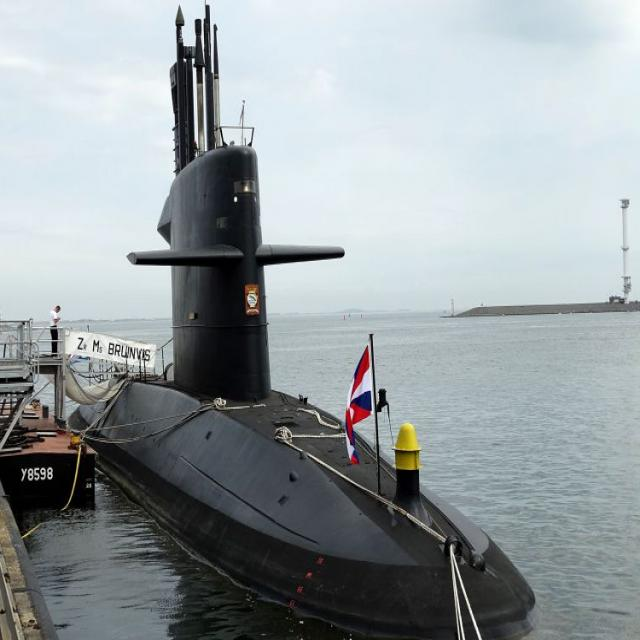submarine: (64, 1, 539, 639)
